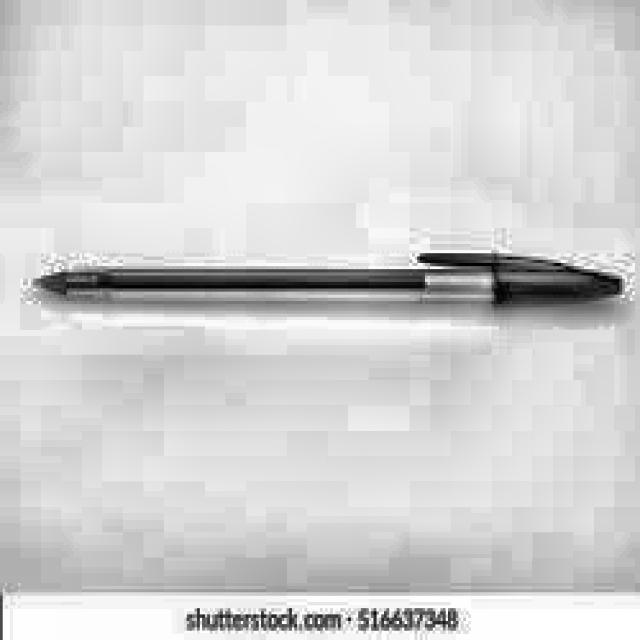Pen: (27, 222, 630, 314)
